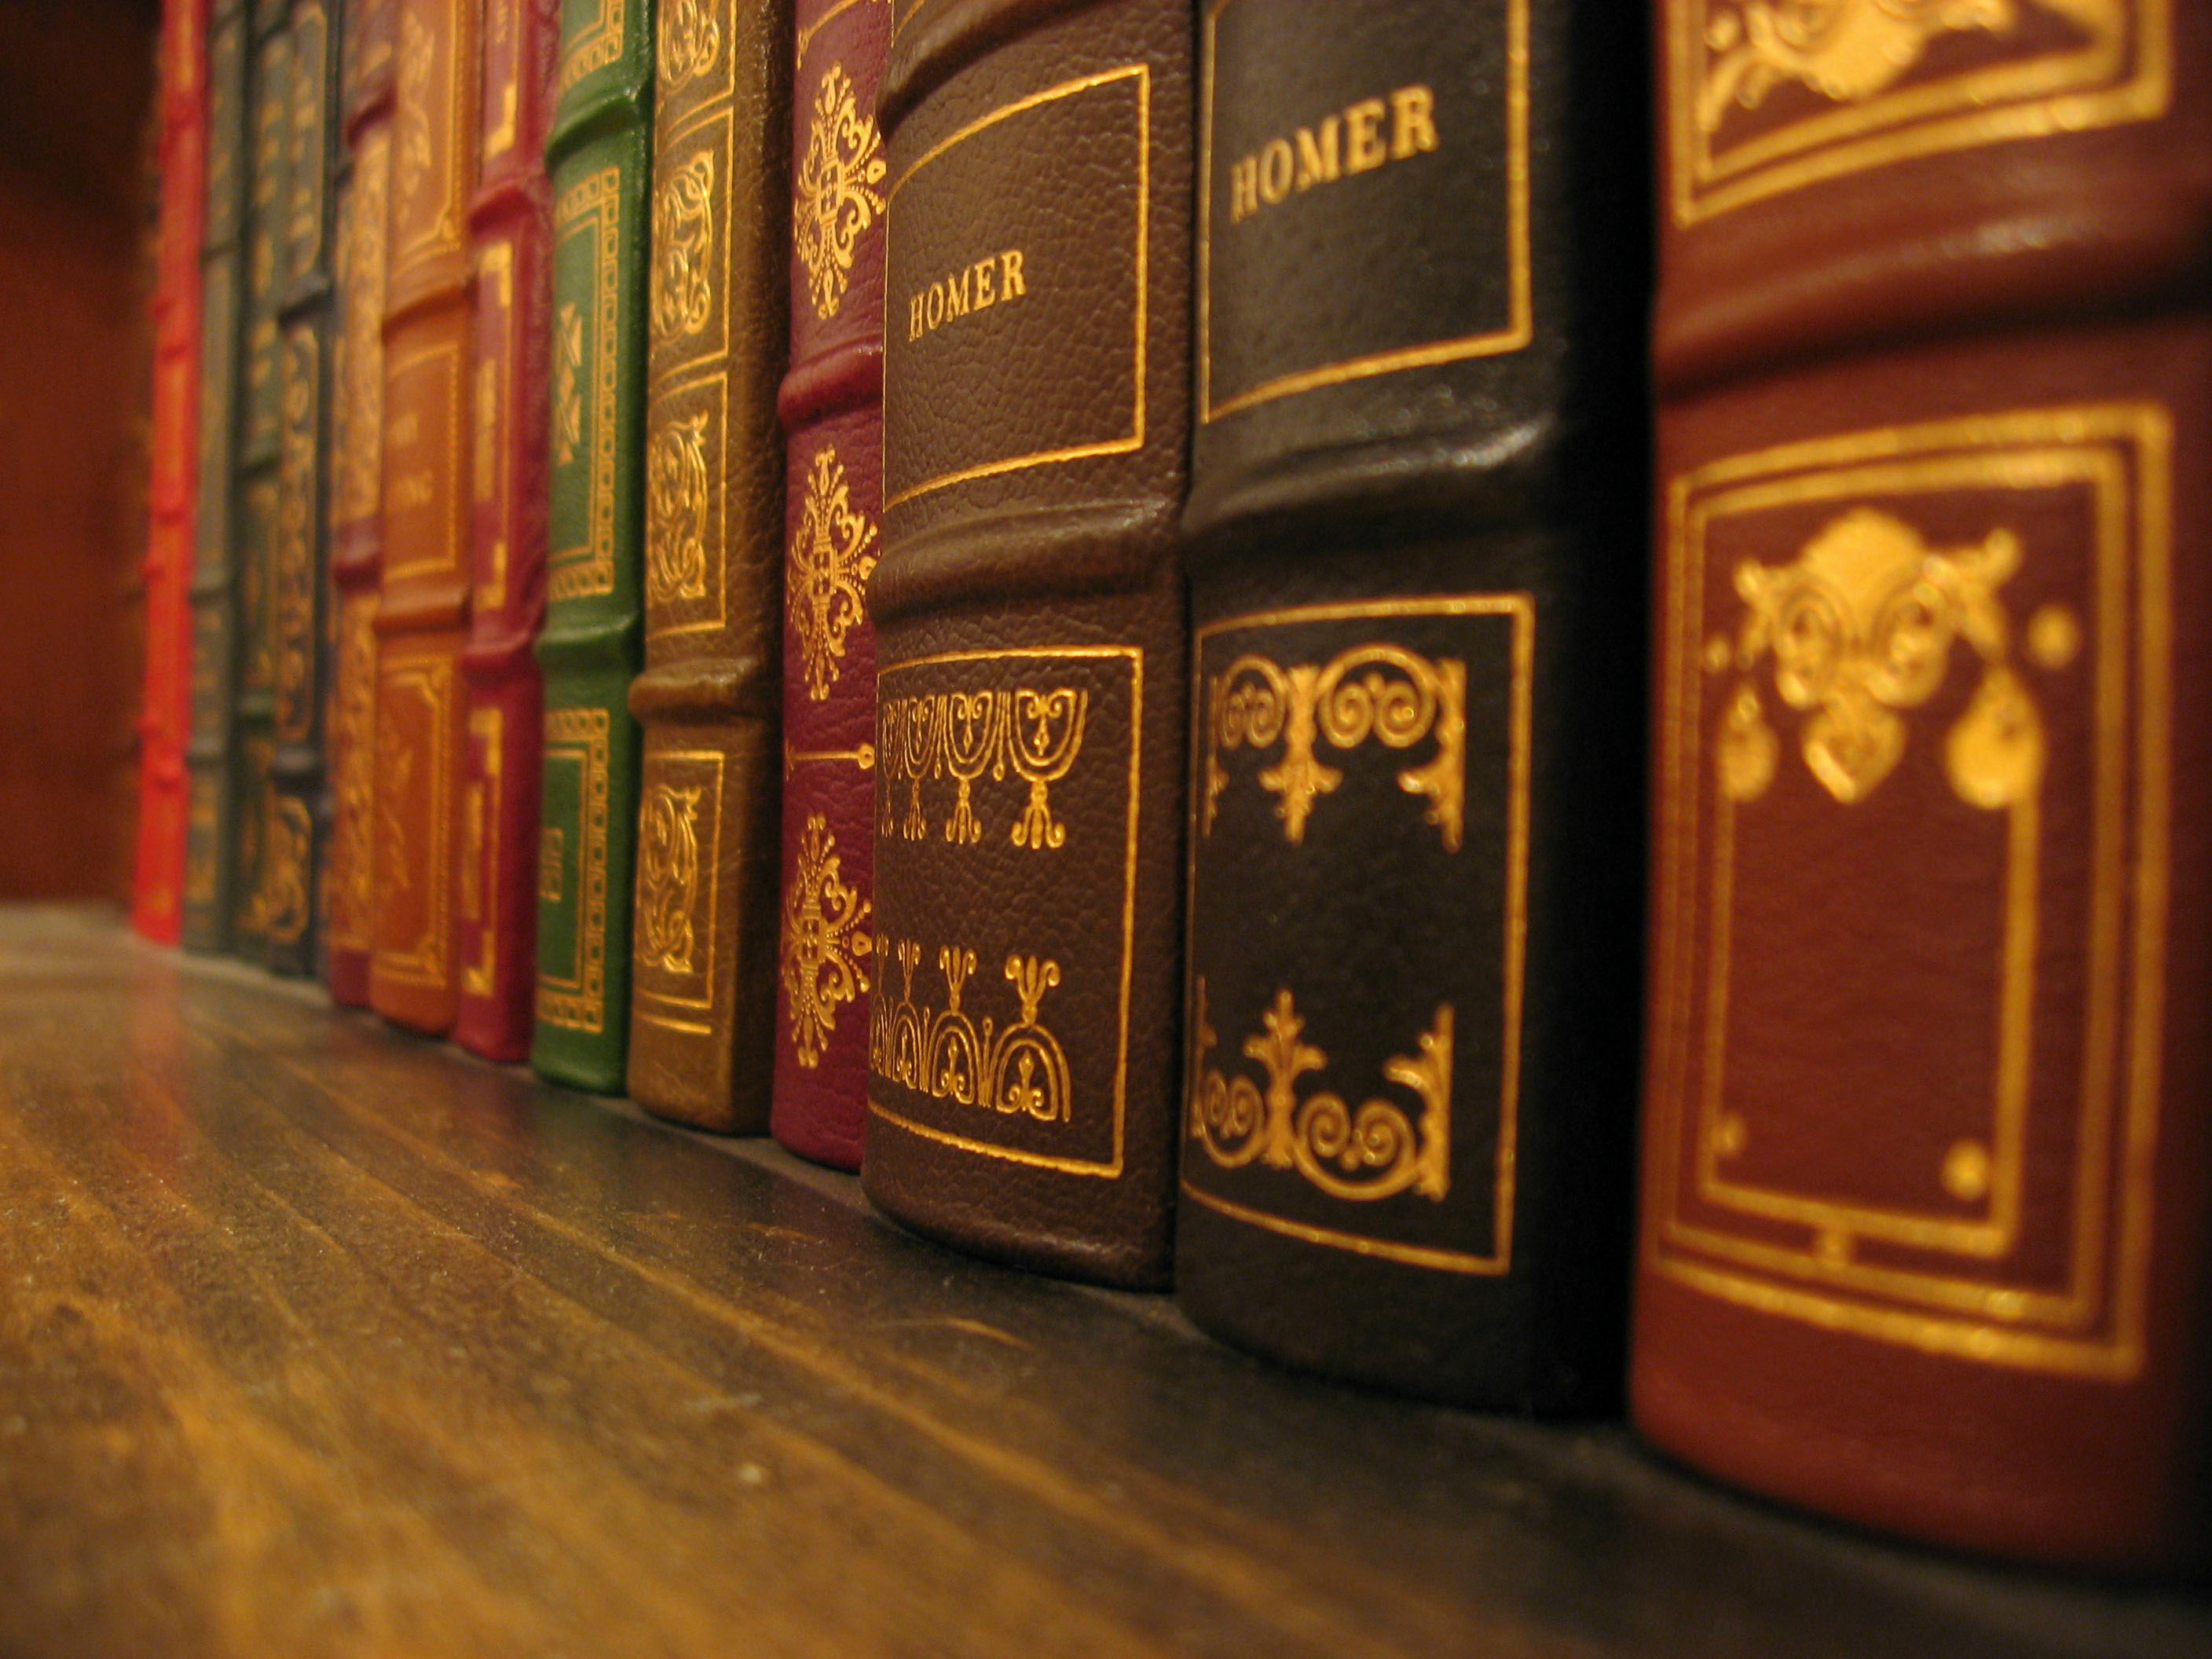book: (1599, 10, 2205, 1556), (1212, 5, 1639, 1403), (887, 2, 1176, 1290)
